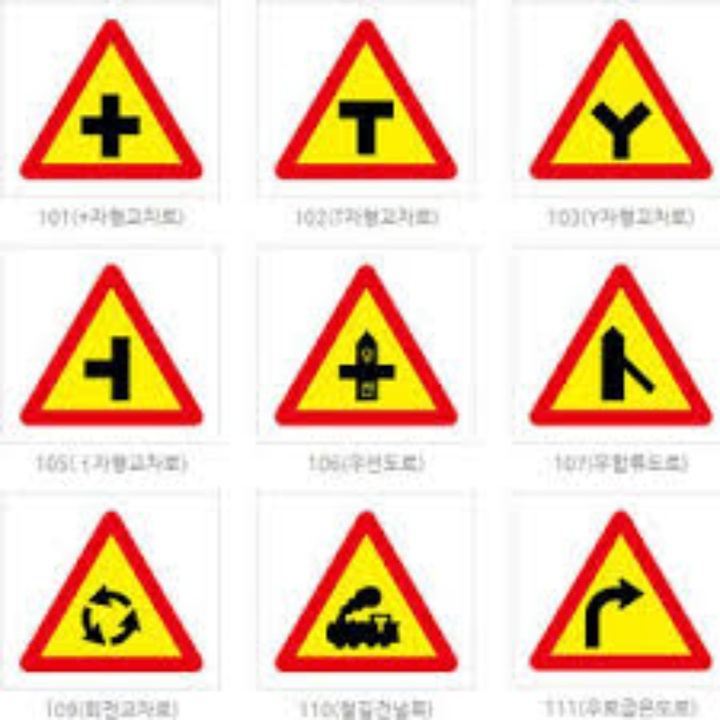inter: (72, 85, 153, 157)
right: (580, 571, 650, 655)
